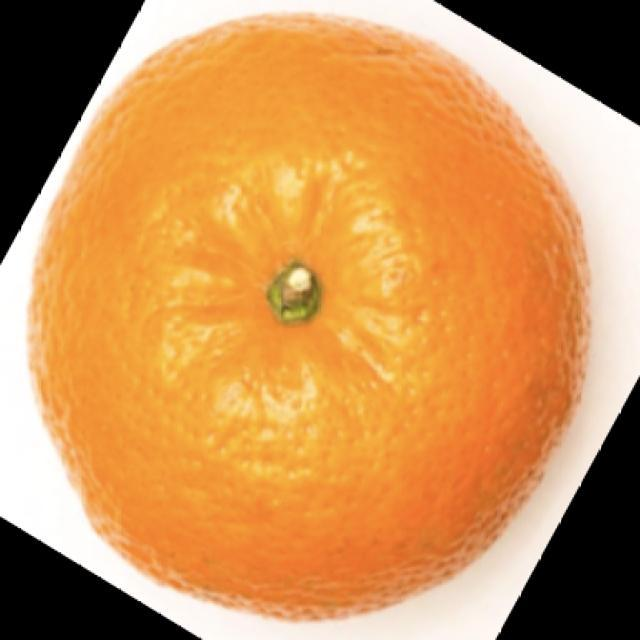matang: (31, 17, 584, 614)
